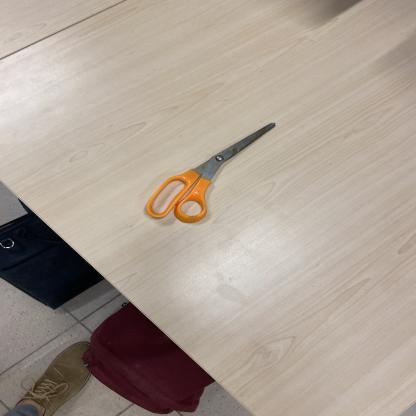scissors: (143, 123, 277, 224)
